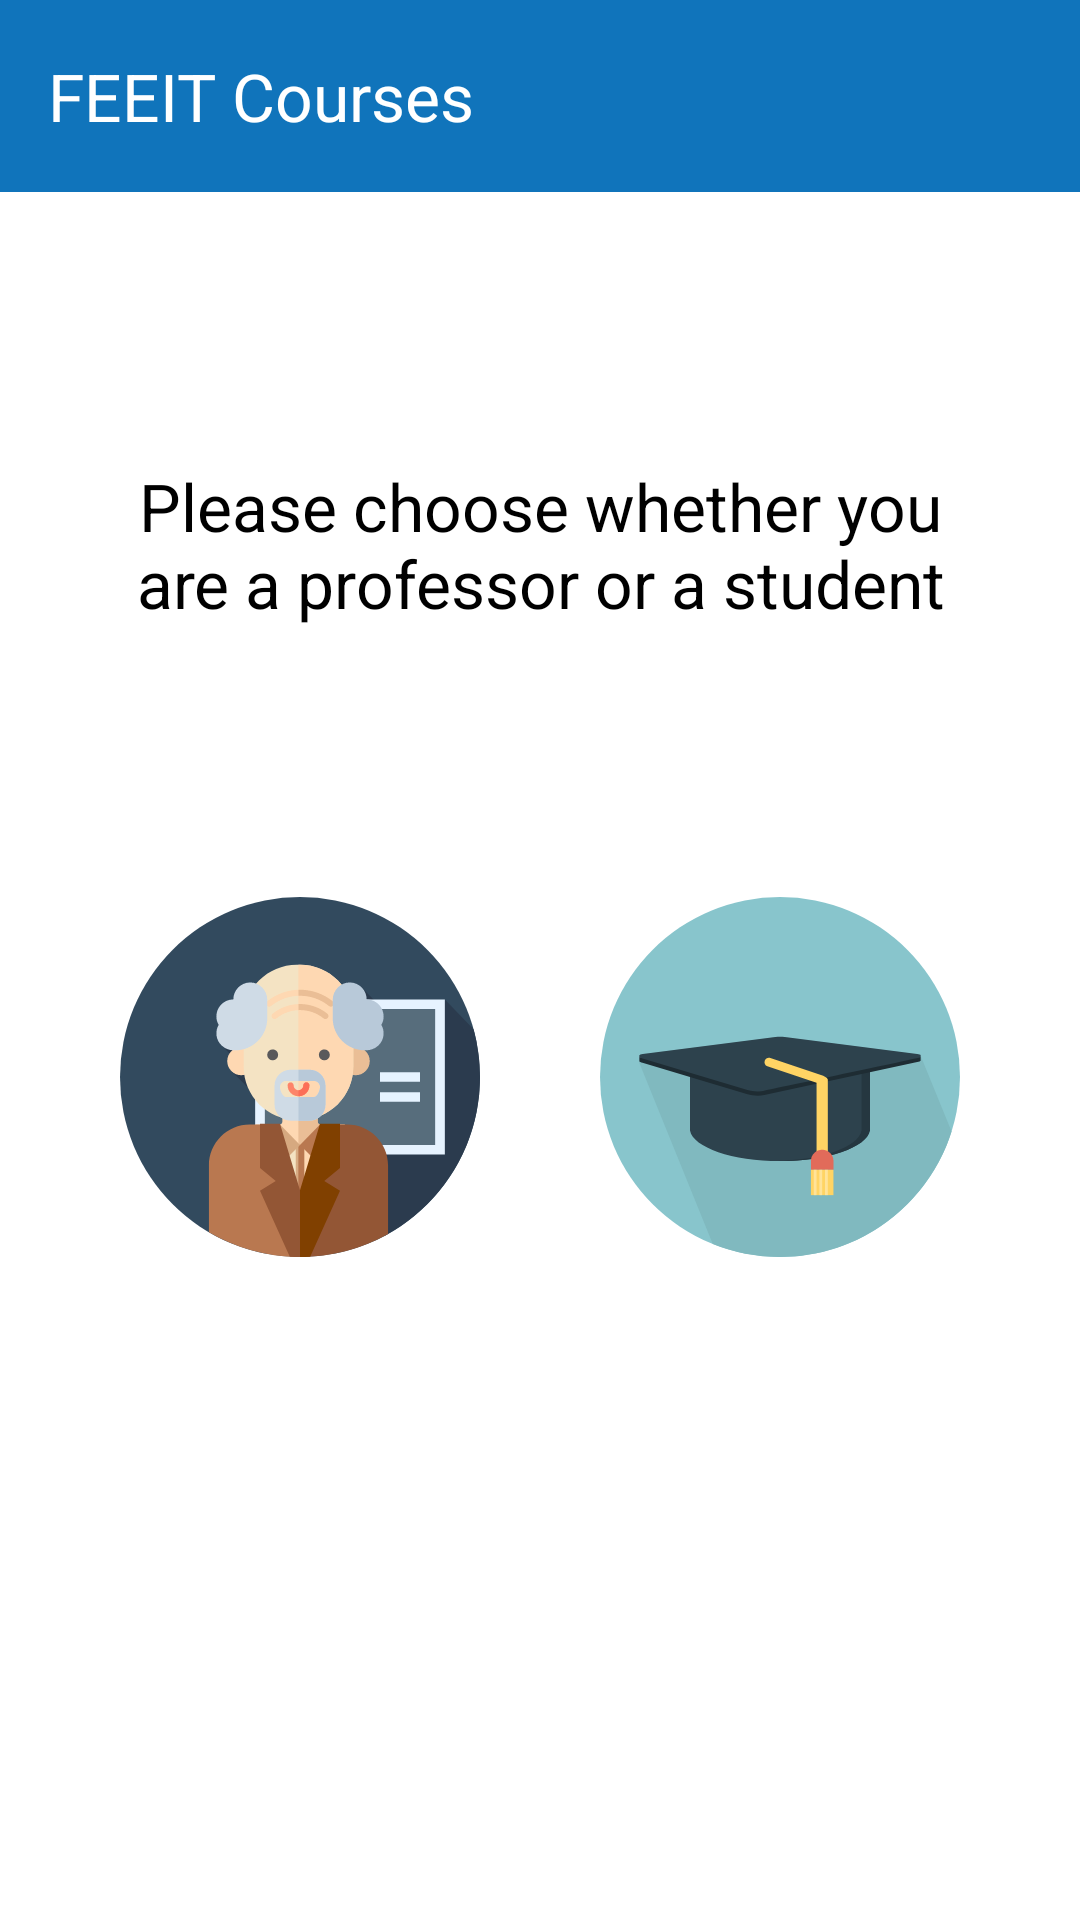

Icon click points for this 1080x1920 phone screenshot, format (x=x, y=y):
Professor: (x=300, y=1077)
Student: (x=780, y=1077)
